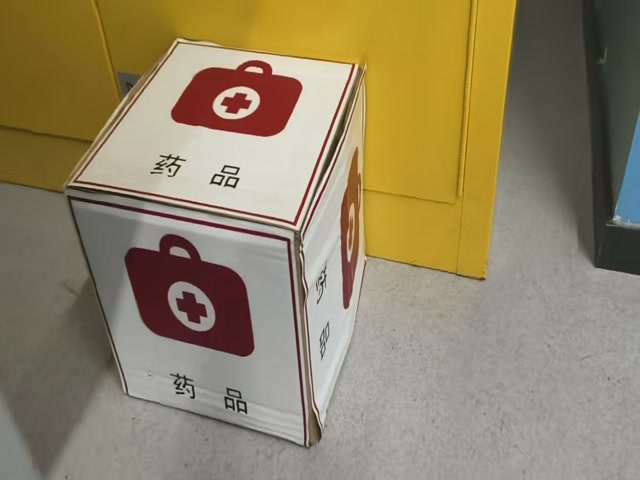Cube_medicine: (65, 40, 363, 243)
